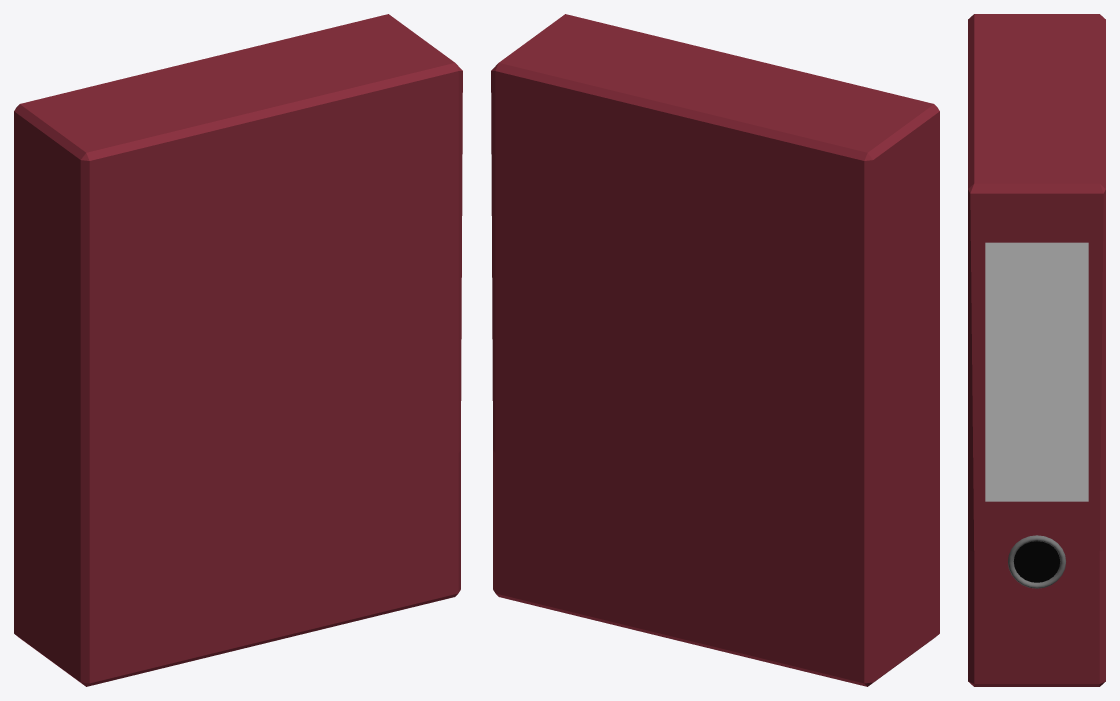
Rendered from File_binder.fbx.
The picture shows the model from 3 angles, left to right: view 1: azimuth 30°, elevation 25°; view 2: azimuth 150°, elevation 25°; view 3: azimuth 270°, elevation 25°; orthographic projection. The views are drawn at different scales.
Visible parts, largest first — view 1: Binder_file; view 2: Binder_file; view 3: Binder_file.
Boxes of the visible parts, box(x1,y1,x2,y2) form: Binder_file: box(14, 14, 462, 686); Binder_file: box(491, 14, 939, 686); Binder_file: box(968, 14, 1105, 686).
Bounding box in the file's own units: 27.26 × 9 × 36.25.
